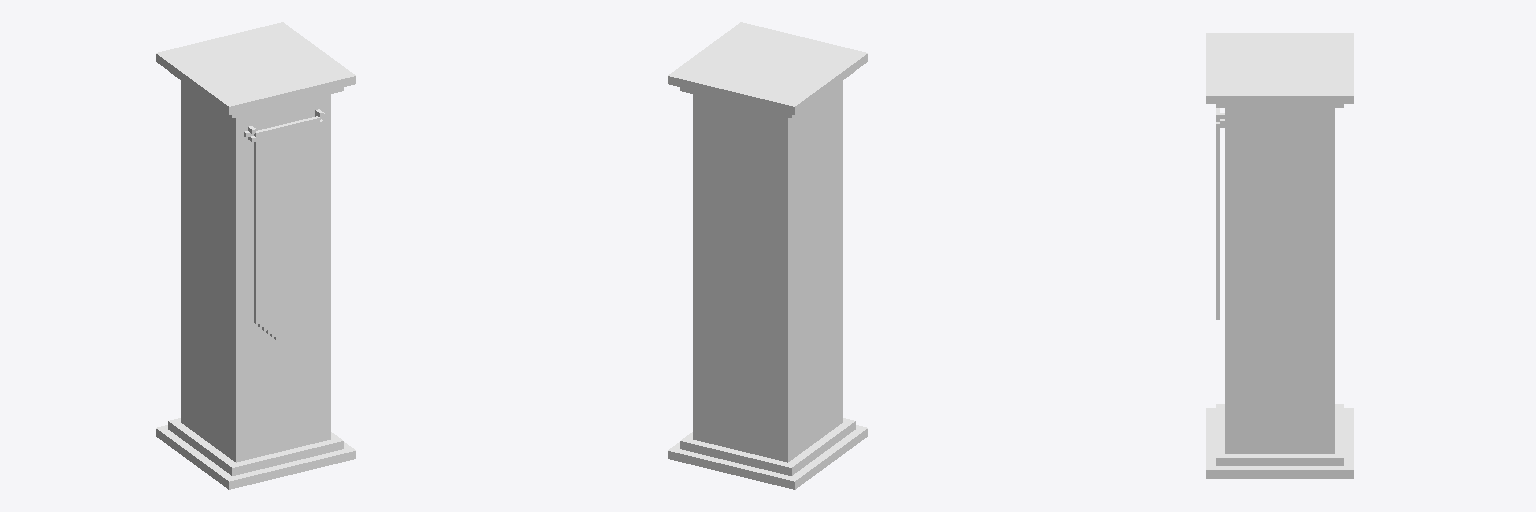
File: BossPillars.obj
The picture shows the model from 3 angles: view 1: azimuth 30°, elevation 25°; view 2: azimuth 150°, elevation 25°; view 3: azimuth 270°, elevation 25°; orthographic projection.
Visible parts, largest first — view 1: object 1; view 2: object 1; view 3: object 1.
Part boxes in pixels (x1,y1,x2,y2): object 1: (156,22,355,489); object 1: (668,22,867,489); object 1: (1206,33,1353,478).
Size of the model in its own units: 3.2 by 9.2 by 3.2.